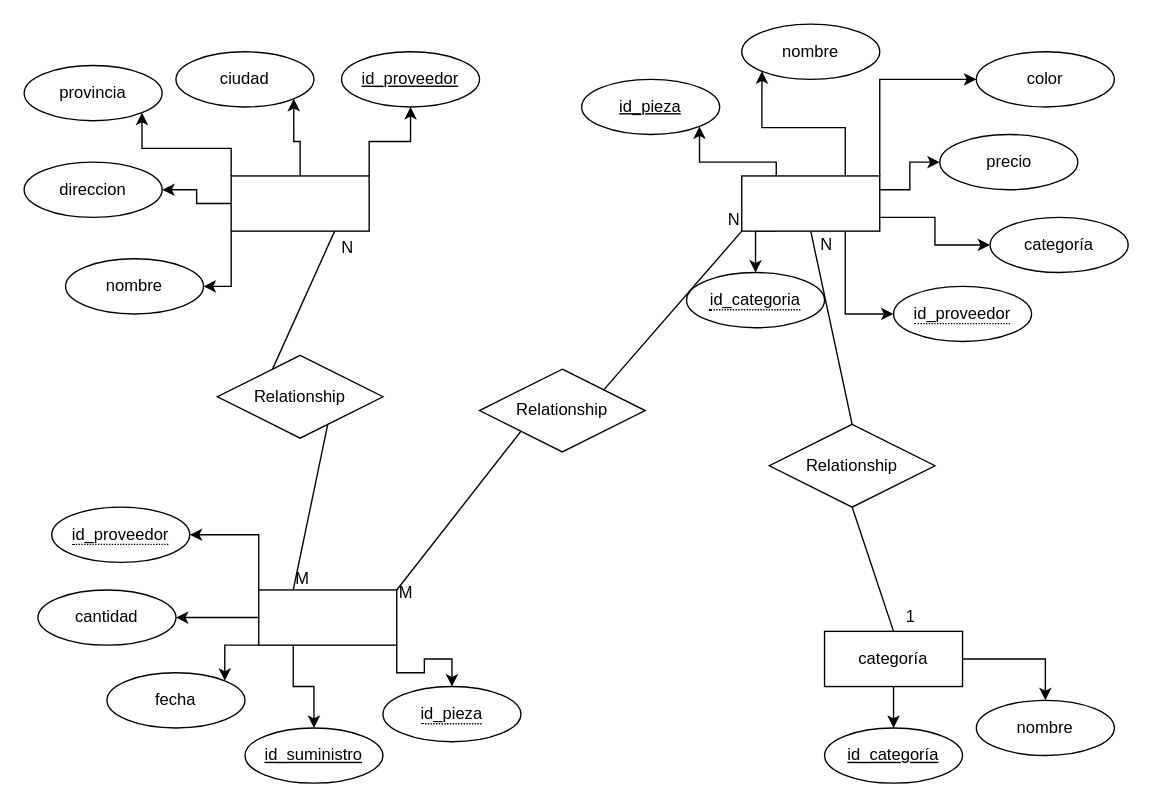
Image size: 1152x807. Some labels were removed from this diagram. The centre of each missing label's shape, as x and y in pixels:
piezas: point 810,203
proveedores: point 299,203
suministros: point 327,617
